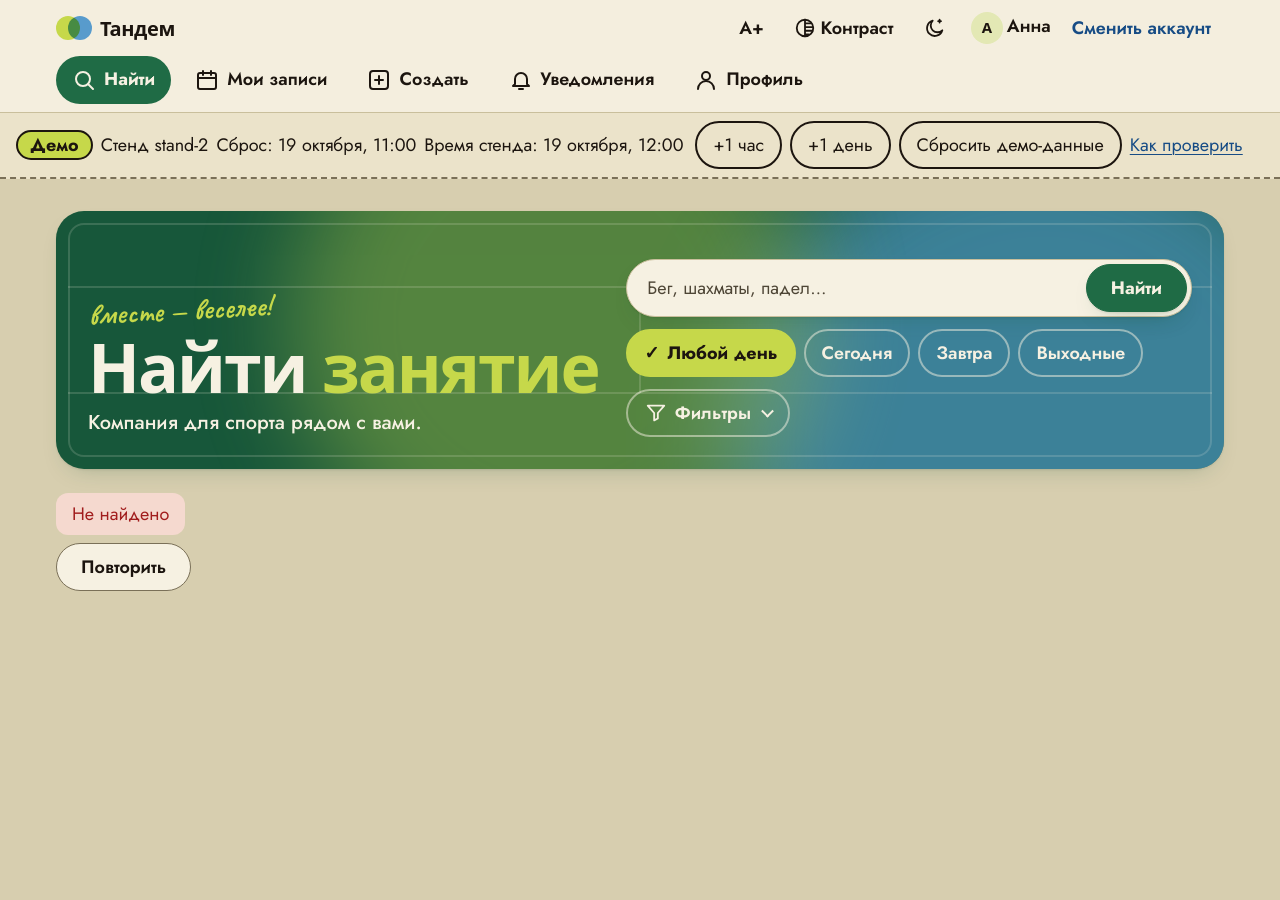
демо-панель (ТЗ 4.6) › сброс не удался — сообщение об ошибке, данные и вход прежние
Expected: the button "Сменить аккаунт" is shown, [1059, 4, 1224, 52]
Click the button "Сбросить демо-данные" at [1010, 145], box [899, 121, 1122, 169]
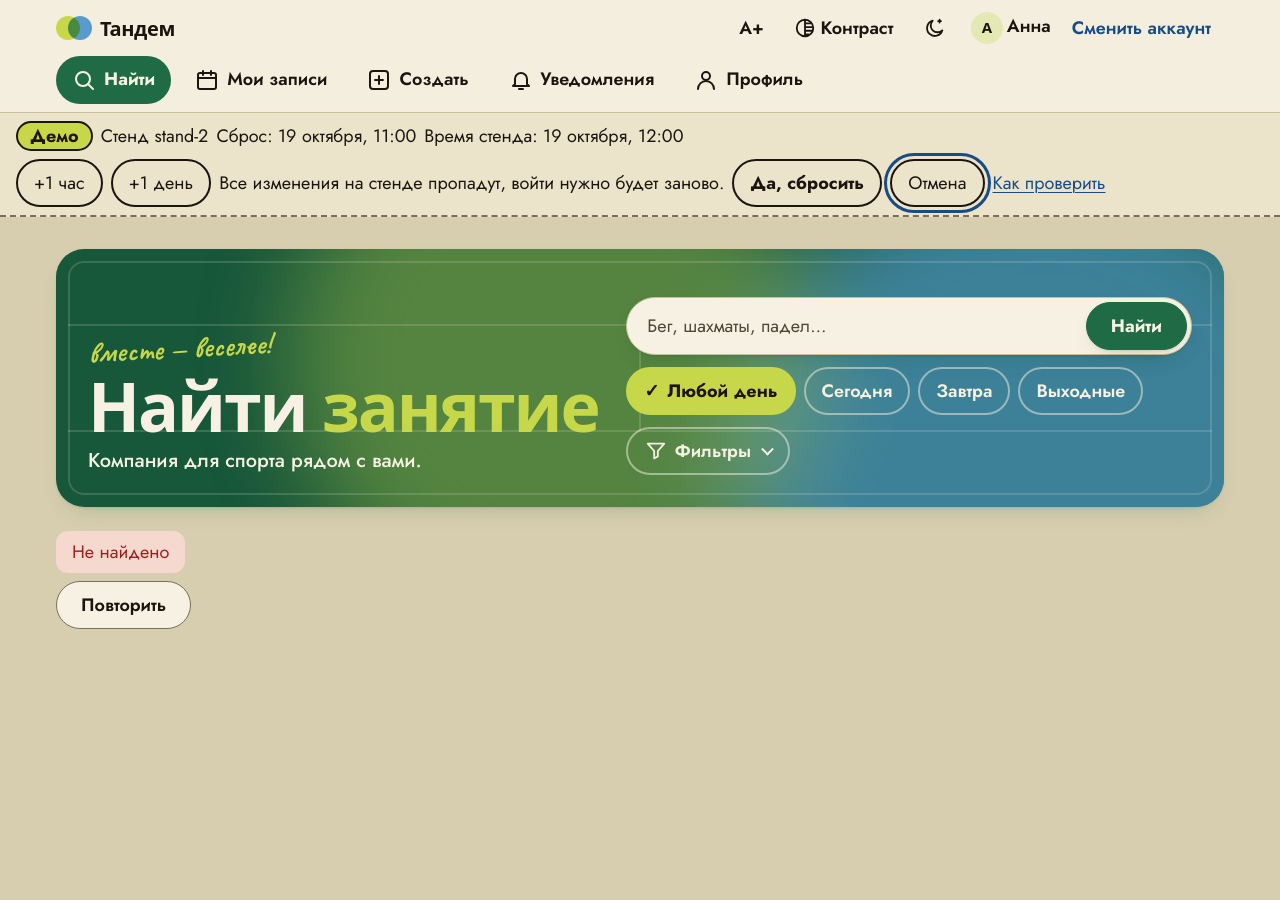
Click the button "Да, сбросить" at [807, 183], box [732, 159, 882, 207]
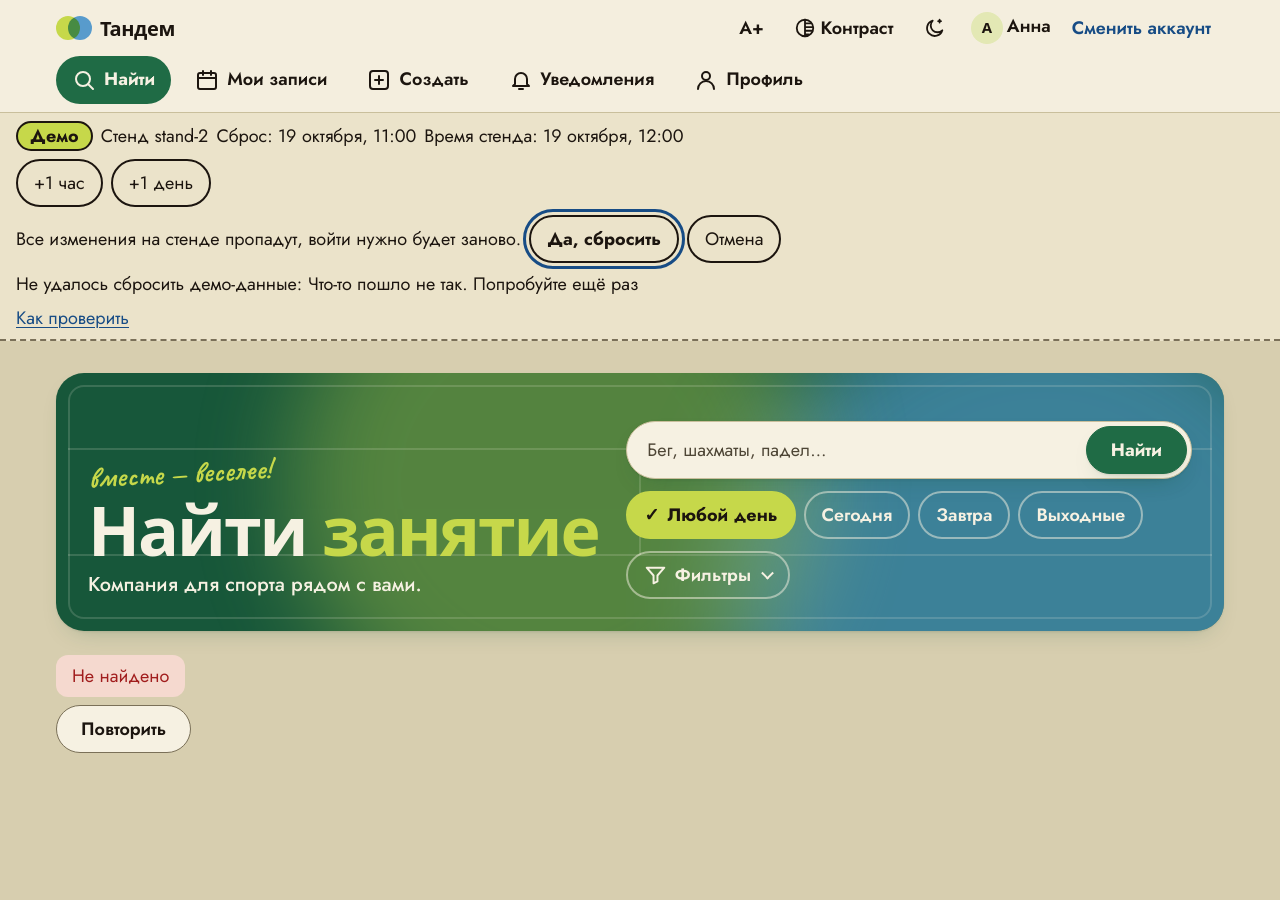
Expected: the text "Сброс: 19 октября, 11:00" is shown, [216, 123, 416, 149]
Expected: the message "Не удалось сбросить демо-данные: Что-то пошло не так. Попробуйте ещё раз" is shown, [16, 271, 638, 297]
